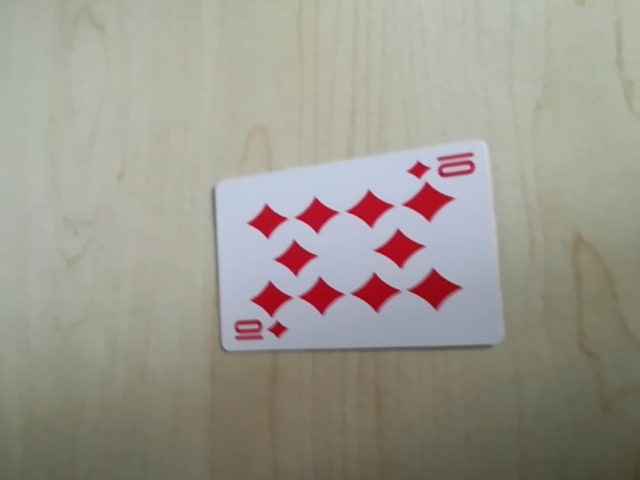fk 10: (407, 147, 484, 187), (228, 317, 290, 349)
